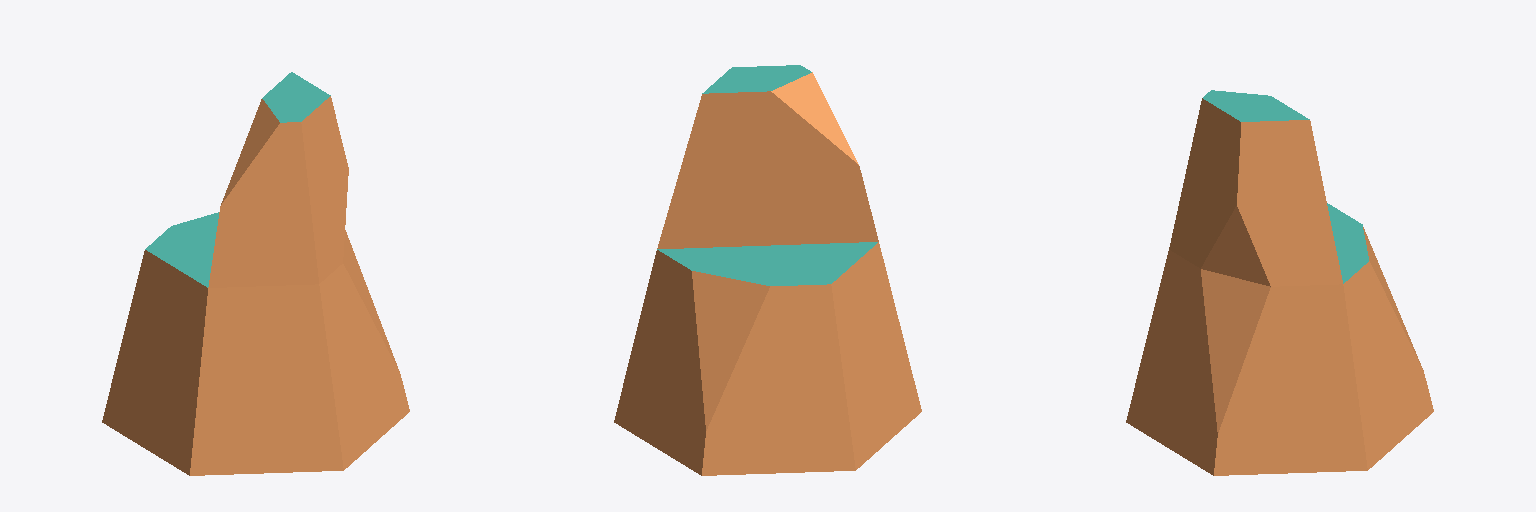
The model's file is rock_tall10.obj.
The picture shows the model from 3 angles: view 1: azimuth 30°, elevation 25°; view 2: azimuth 150°, elevation 25°; view 3: azimuth 270°, elevation 25°; orthographic projection.
Parts seen in each view (by area): view 1: rock_tall10; view 2: rock_tall10; view 3: rock_tall10.
Part boxes in pixels (x1,y1,x2,y2): rock_tall10: (102,72,409,475); rock_tall10: (614,65,921,475); rock_tall10: (1126,90,1433,475).
Bounding box in the file's own units: 4.88 × 6.2 × 5.38.